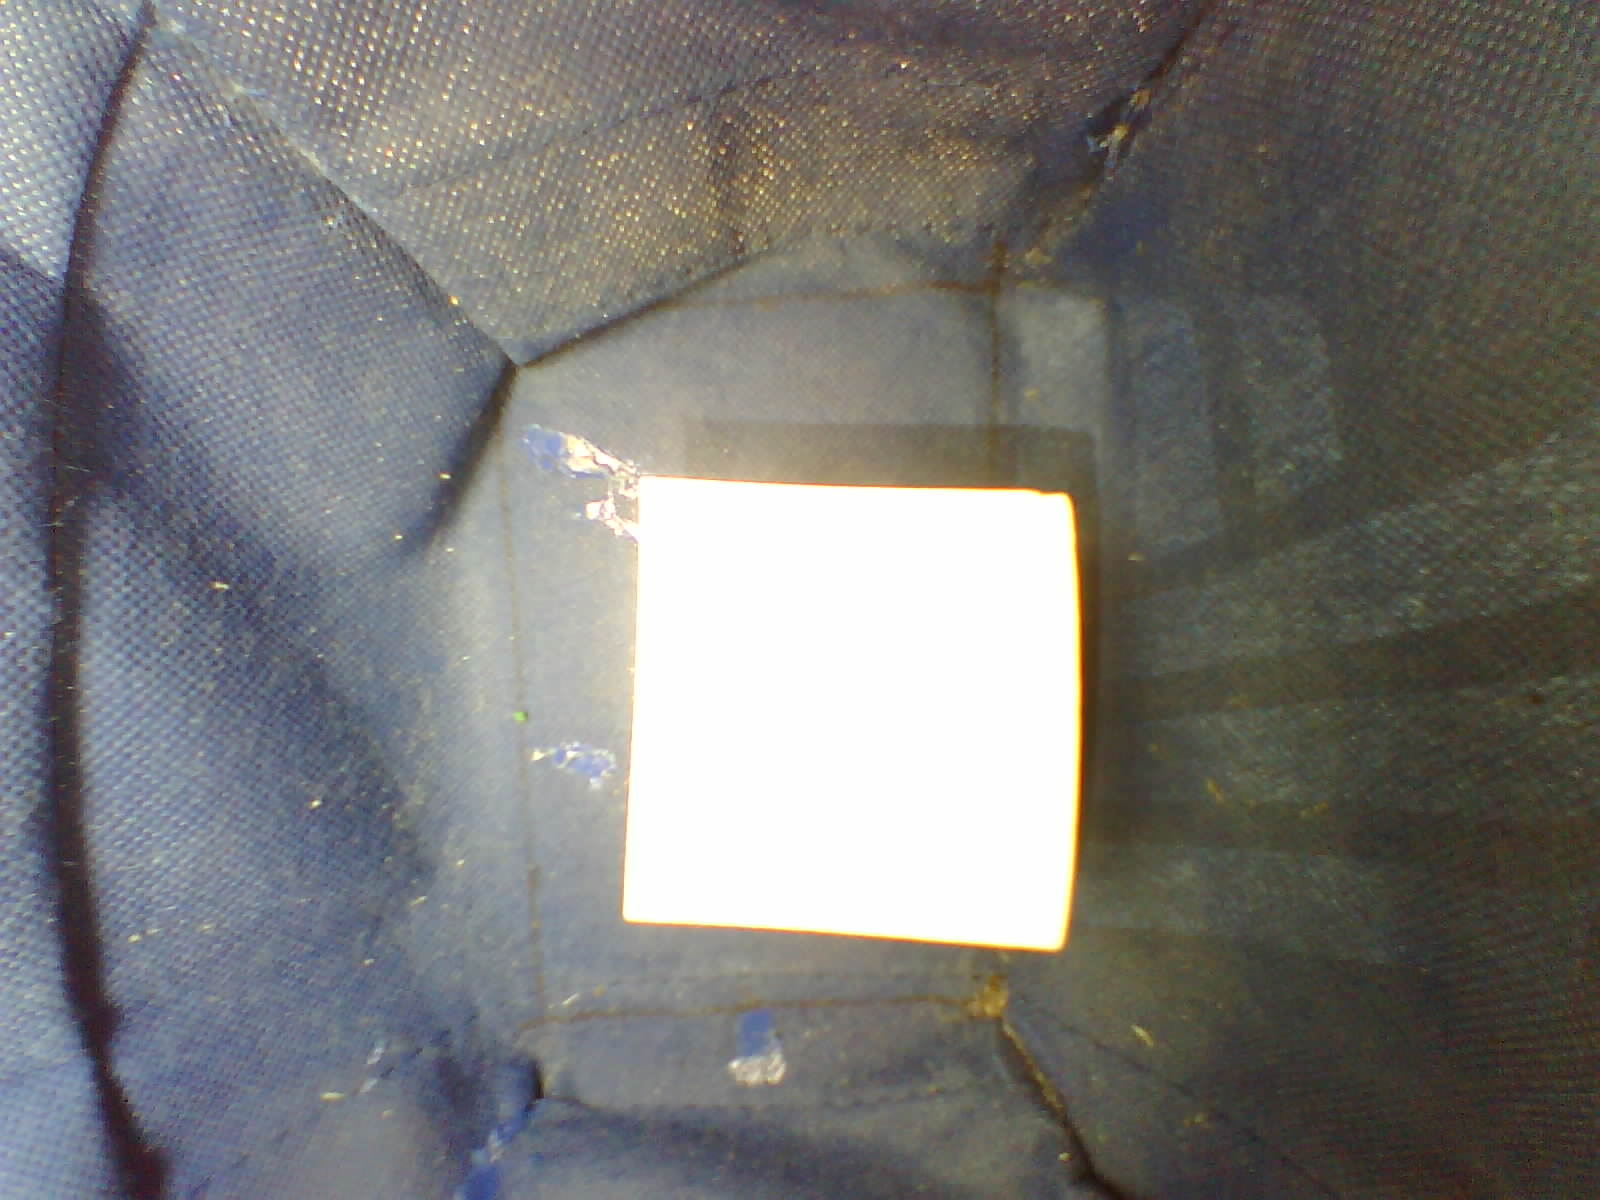cube-hard: (610, 459, 1104, 963)
